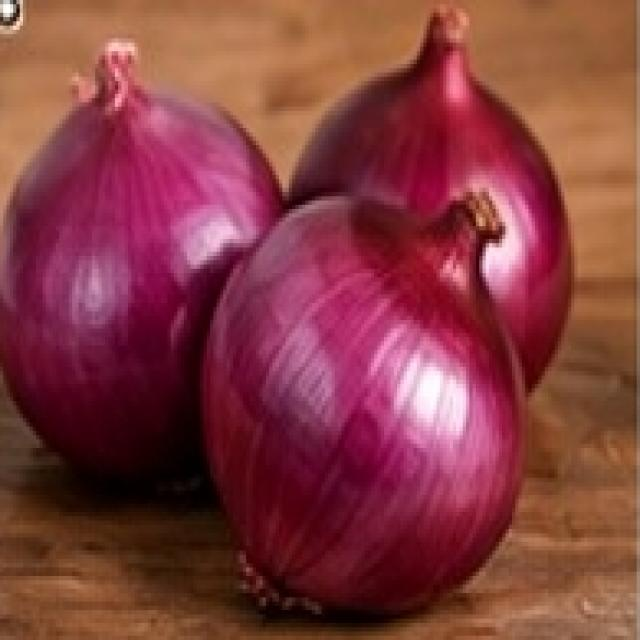healthy: (192, 200, 526, 567), (3, 77, 266, 465), (308, 42, 568, 380), (10, 90, 125, 277), (322, 73, 456, 214)
